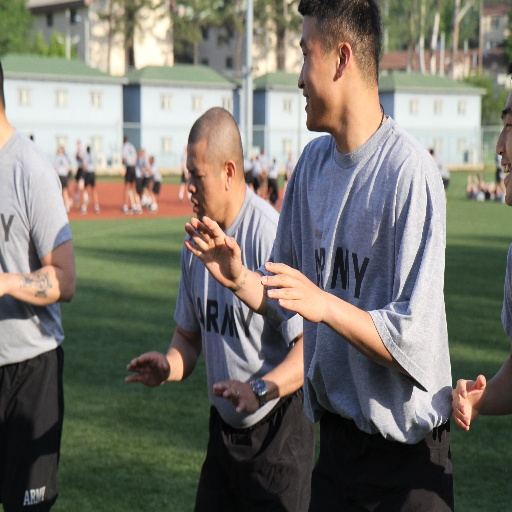hand: (184, 214, 241, 289), (259, 261, 323, 322), (451, 374, 485, 429), (124, 350, 169, 386), (212, 378, 259, 412), (0, 272, 3, 298)
